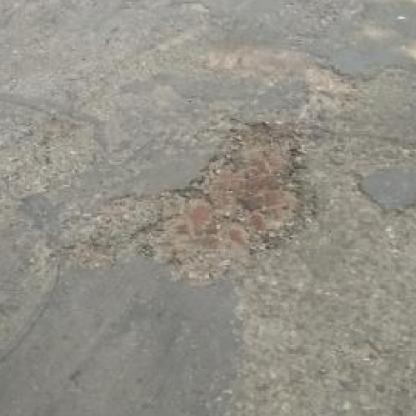pothole: (139, 114, 317, 280)
